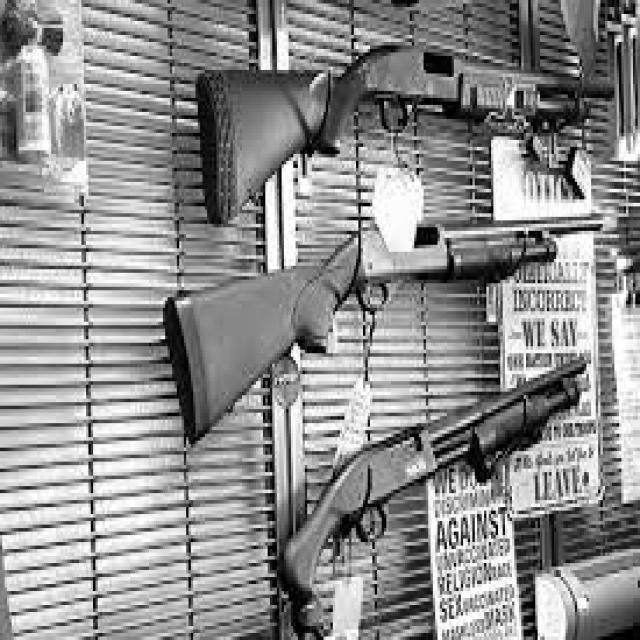gun: (161, 210, 605, 444), (277, 349, 589, 636), (191, 34, 616, 218)
